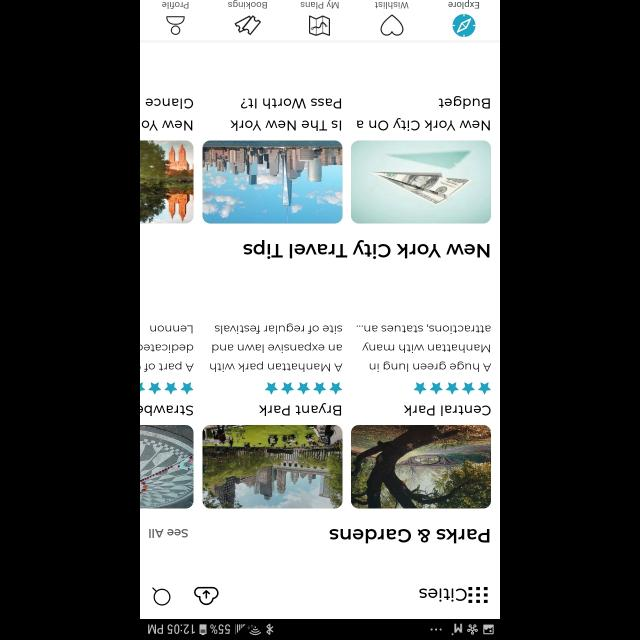icon: (264, 382, 342, 394), (414, 382, 491, 394), (140, 382, 193, 394), (234, 15, 262, 35), (452, 15, 476, 38), (381, 15, 404, 37), (194, 586, 218, 606), (308, 16, 329, 36), (152, 586, 172, 606), (167, 16, 186, 34), (468, 586, 488, 602)
image: (202, 140, 342, 224), (351, 140, 491, 224), (202, 424, 342, 508), (350, 424, 490, 508), (140, 140, 193, 224), (140, 424, 193, 508)
text: (210, 322, 342, 372), (356, 324, 492, 372), (243, 240, 489, 260), (356, 96, 489, 132), (230, 98, 342, 132), (329, 528, 489, 544), (140, 326, 194, 372), (140, 98, 193, 130), (259, 402, 341, 416), (404, 404, 491, 416), (418, 587, 466, 601), (140, 404, 192, 416), (148, 528, 188, 538), (300, 0, 338, 10), (228, 0, 266, 10), (448, 0, 479, 10), (375, 2, 409, 10), (162, 2, 188, 8)
uppertaskbar: (140, 618, 500, 640)
